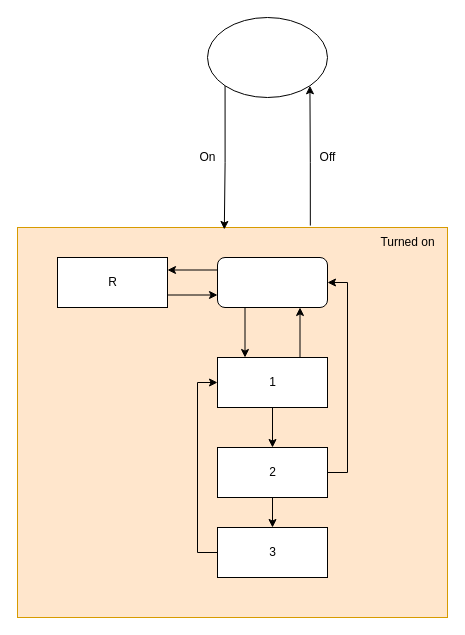
Some shapes in this 465 by 635 pixel diagram are drawn without their labels. Here are the shapes that lost their labels. From the top down, the centre of each, then its label:
pixel 267 57: Turned off (Start)
pixel 272 282: N (Start)
